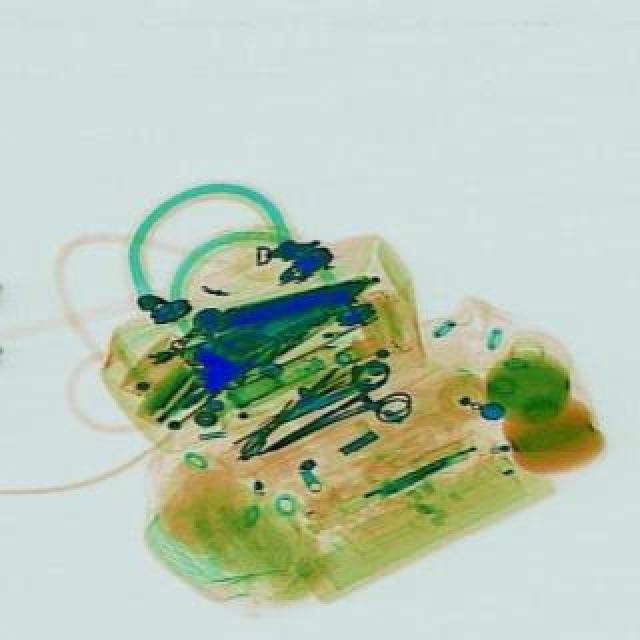pliers: (244, 352, 418, 480)
